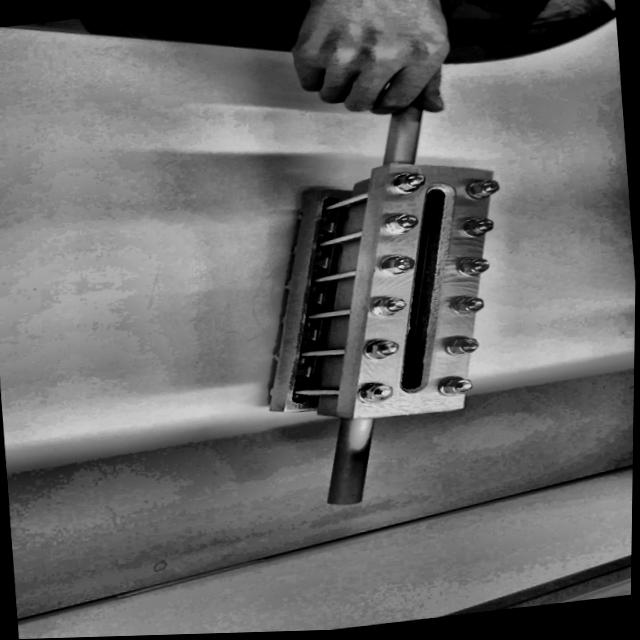ShuiWeiQi_12: (224, 96, 541, 528)
